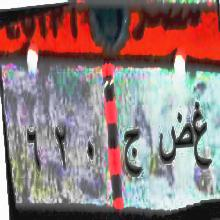0: (84, 128, 98, 170)
2: (56, 119, 70, 176)
6: (25, 118, 44, 178)
daad: (156, 106, 194, 165)
ghayn: (193, 87, 213, 181)
jeem: (122, 120, 144, 186)
